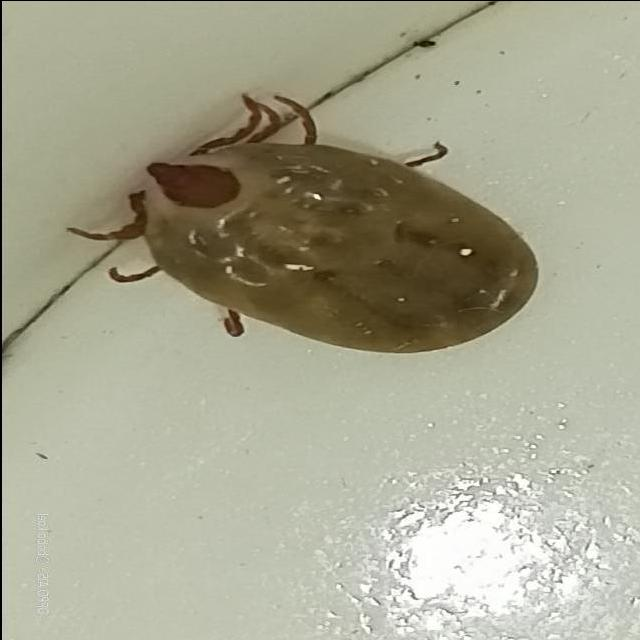Rhipicephalus Sanguineus-F-Fed: (62, 90, 536, 352)
